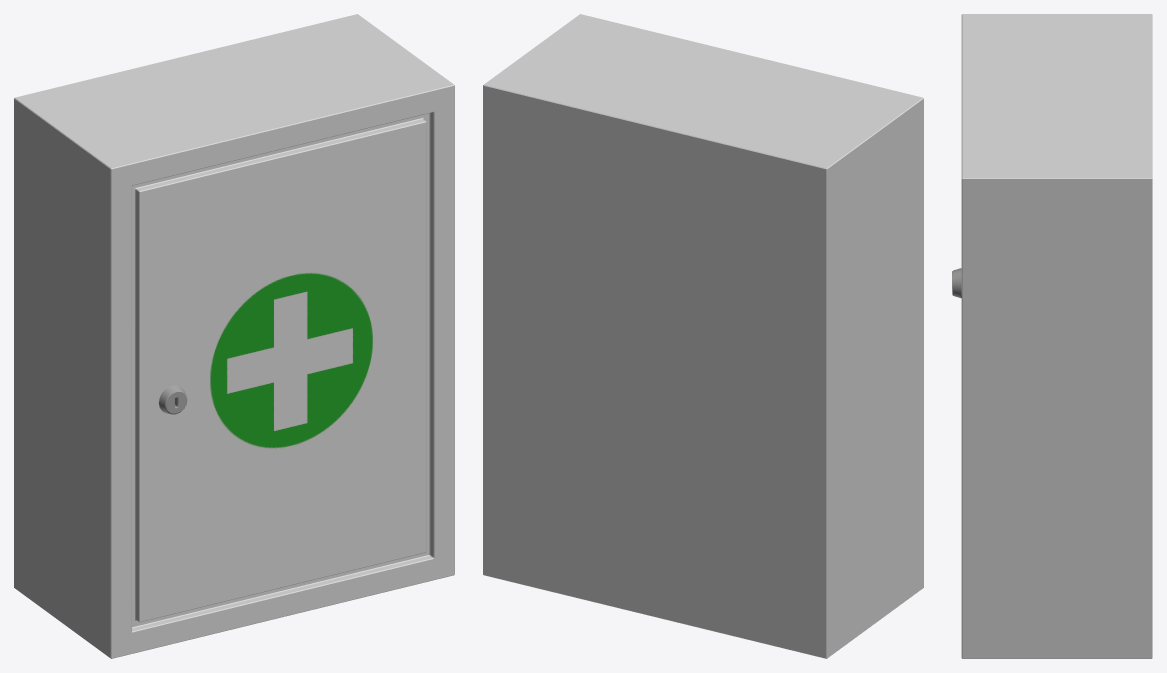
Rendered from MedicineWall.fbx.
3 renders of one model, left to right at view 1: azimuth 30°, elevation 25°; view 2: azimuth 150°, elevation 25°; view 3: azimuth 270°, elevation 25°, orthographic. The views are drawn at different scales.
Parts seen in each view (by area): view 1: MedicineWallCupboard; view 2: MedicineWallCupboard; view 3: MedicineWallCupboard.
Part boxes in pixels (bbox=[...]): MedicineWallCupboard: bbox=[14, 14, 454, 658]; MedicineWallCupboard: bbox=[483, 14, 923, 658]; MedicineWallCupboard: bbox=[952, 14, 1152, 658].
Bounding box in the file's own units: 147 × 200 × 75.43.
